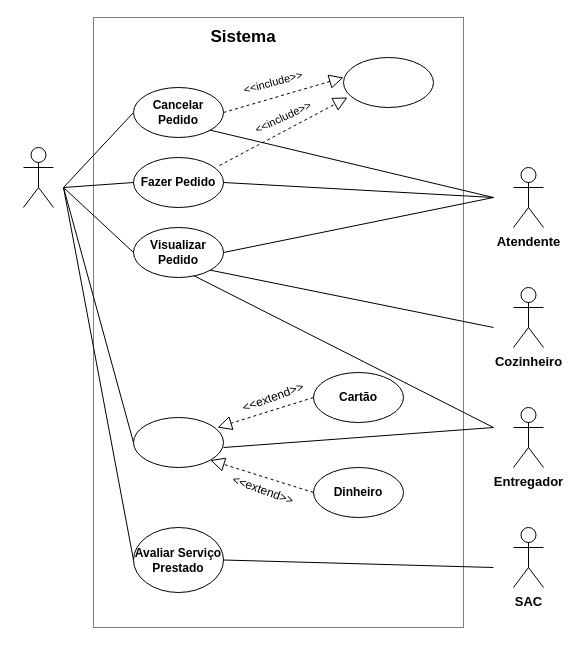
Some shapes in this 580 by 645 pixel diagram are drawn without their labels. Here are the shapes that lost their labels. From the top down, the centre of each, then its label:
At pixel 388 82: "Verificar Cadastro do Cliente".
At pixel 38 177: "Cliente".
At pixel 178 442: "Realizar o Pagamento do Pedido".
